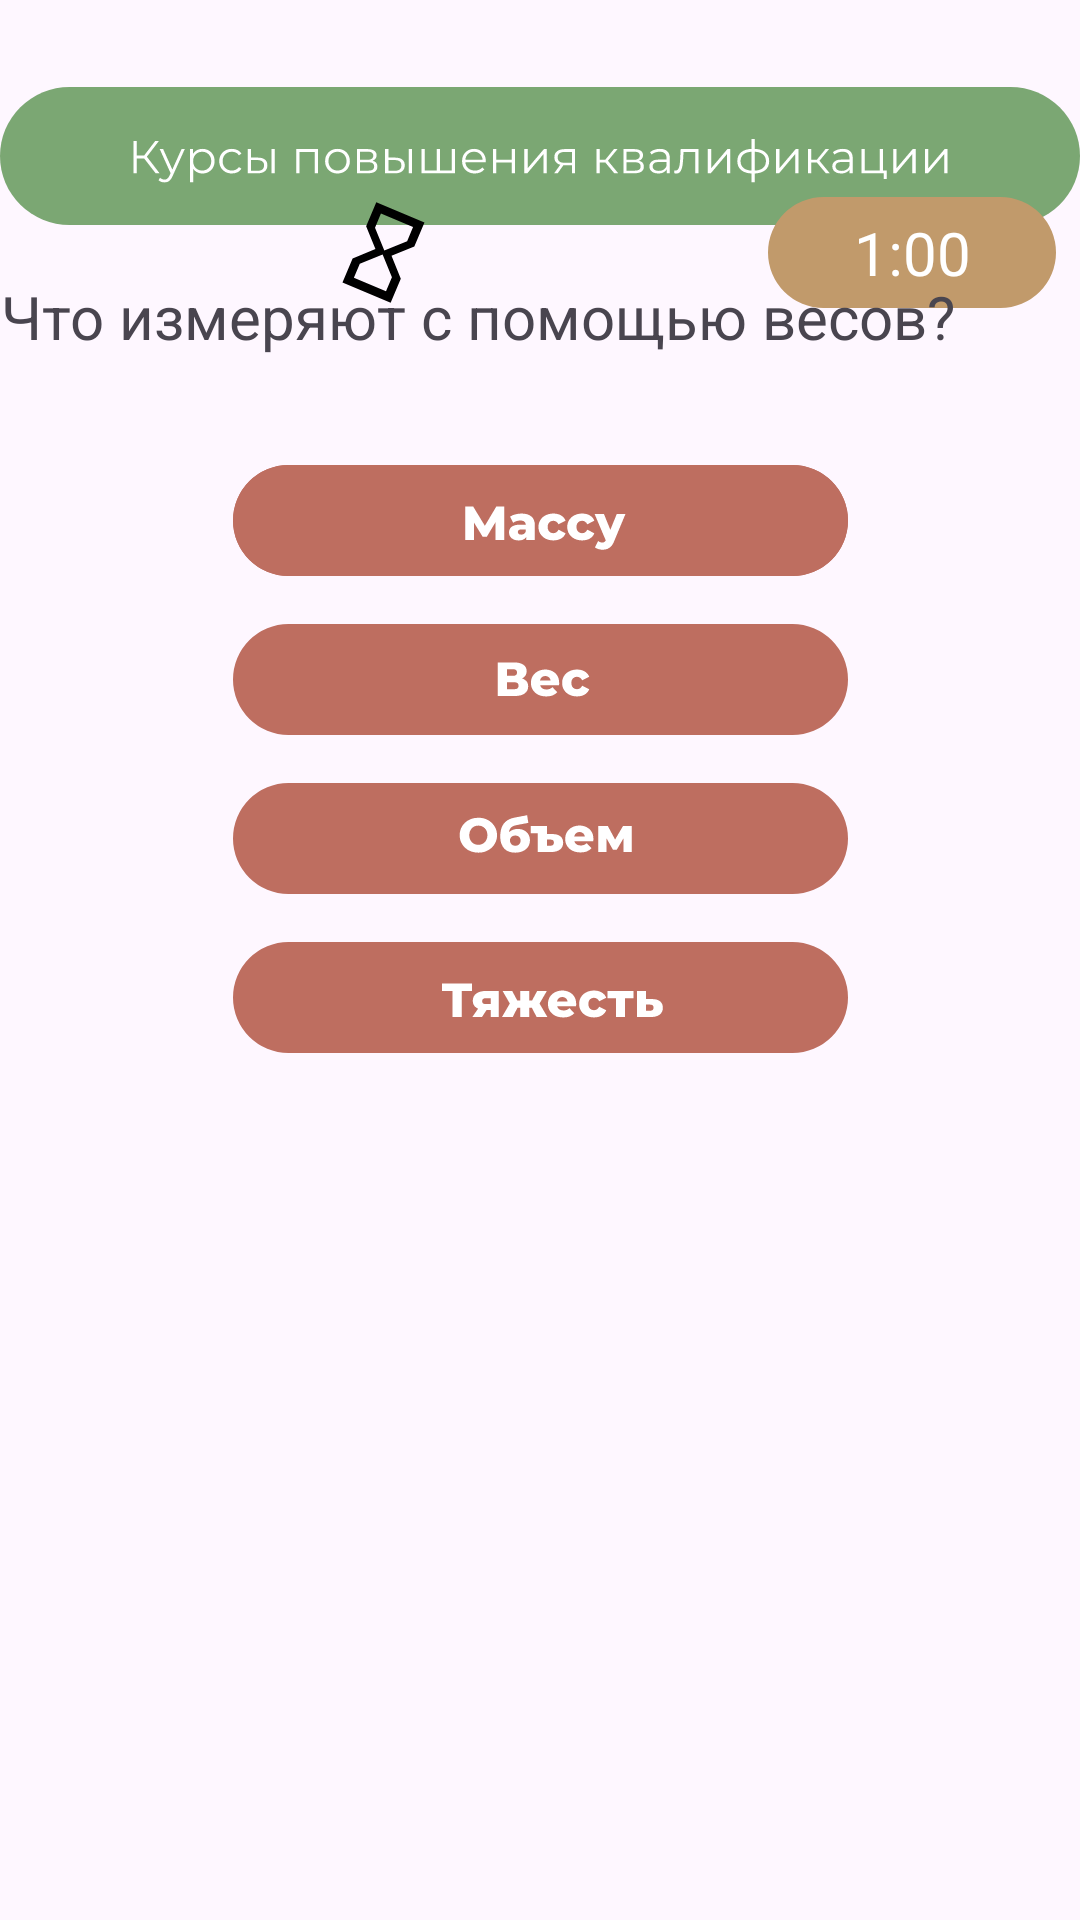

Icons on this 1080×1920 Android screen, each with the point to tap as point (x, y):
time: point (384, 253)
